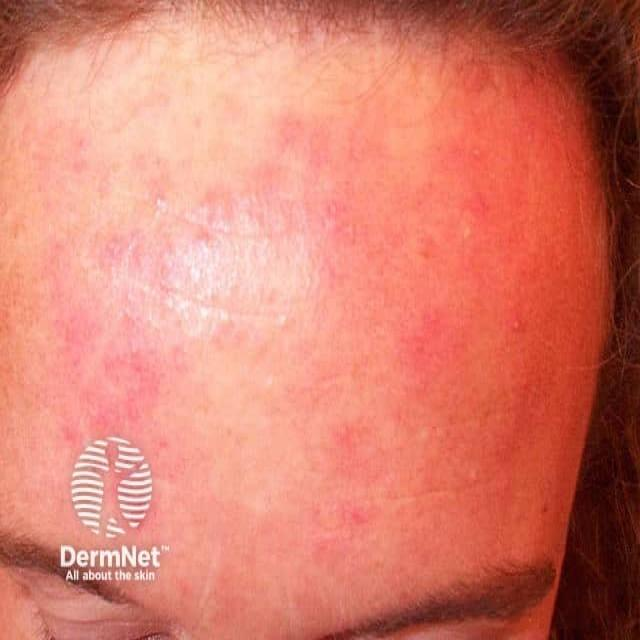Acne: (46, 140, 296, 312)
